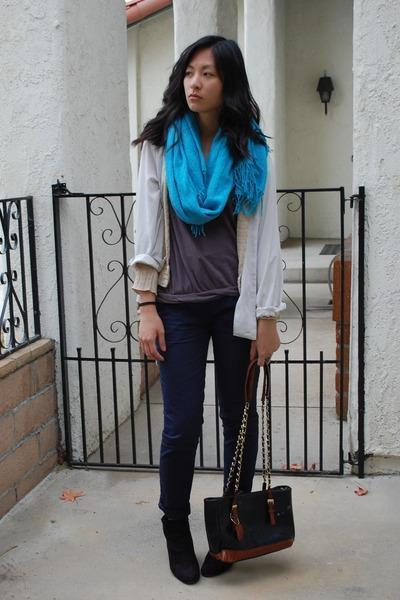bag: (204, 483, 294, 580)
jacket: (126, 132, 291, 339)
pants: (156, 292, 270, 451)
shirt: (139, 204, 238, 316)
shoe: (135, 435, 264, 584)
